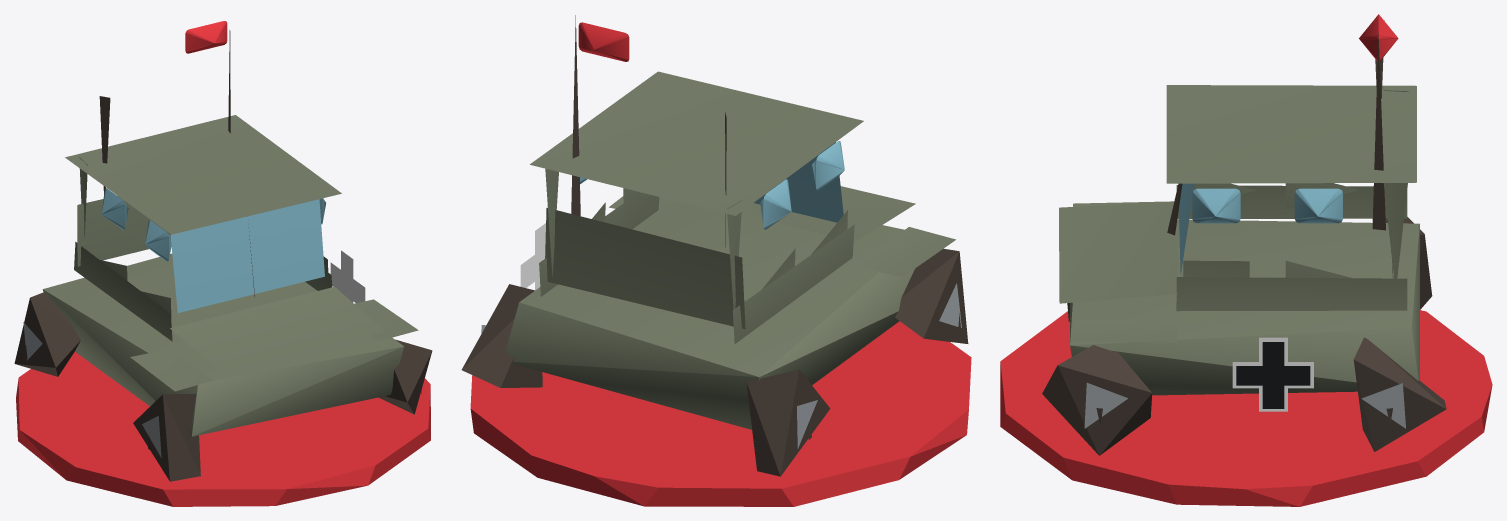
The model's file is germany_commander_lod1.glb.
The picture shows the model from 3 angles, left to right: view 1: azimuth 30°, elevation 25°; view 2: azimuth 150°, elevation 25°; view 3: azimuth 270°, elevation 25°; orthographic projection. The views are drawn at different scales.
Parts seen in each view (by area): view 1: body_hull, base_pedestal; view 2: body_hull, base_pedestal; view 3: body_hull, base_pedestal.
Part boxes in pixels (x1,y1,x2,y2): body_hull: (14, 21, 432, 481); base_pedestal: (16, 352, 430, 506); body_hull: (461, 15, 968, 476); base_pedestal: (470, 321, 971, 506); body_hull: (1042, 14, 1446, 455); base_pedestal: (1000, 310, 1492, 506).
Bounding box in the file's own units: 0.7751 × 0.7101 × 0.7751.
